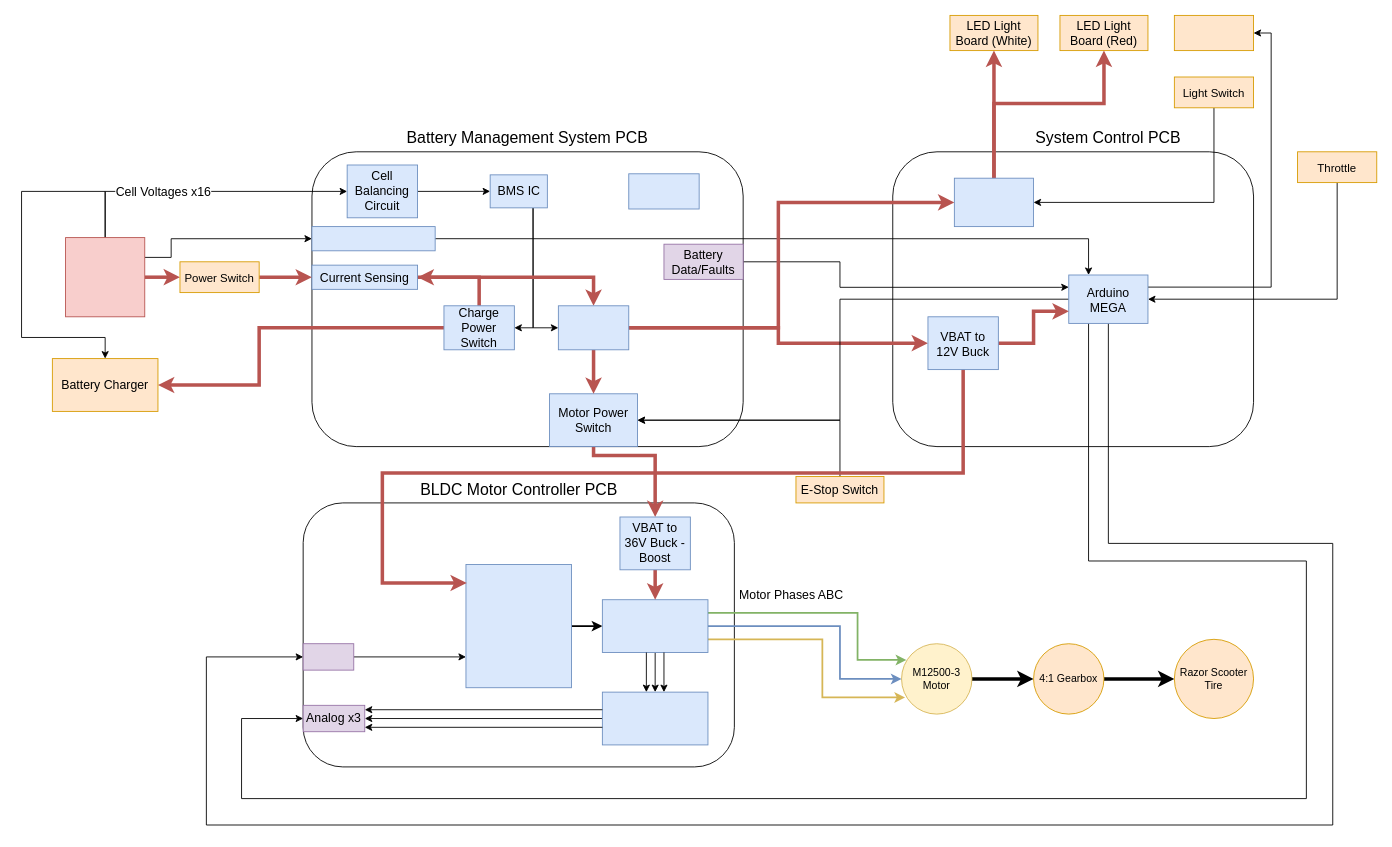
Some shapes in this 1392 by 847 pixel diagram are drawn without their labels. Each missing label, with the centre of its shape:
16s1p LTO Battery: pixel 105 277
3 Phase MOSFET Bridge: pixel 654 626
Current Sense Amplifiers: pixel 654 718
Discharge Power Switch: pixel 593 327
DRV8300D Gate Driver: pixel 518 626
FRAM Log Storage: pixel 663 191
LED Data Display: pixel 1213 33
Light Power Switch: pixel 993 202
PWM x3: pixel 328 656
Temperature Sensing: pixel 373 238
